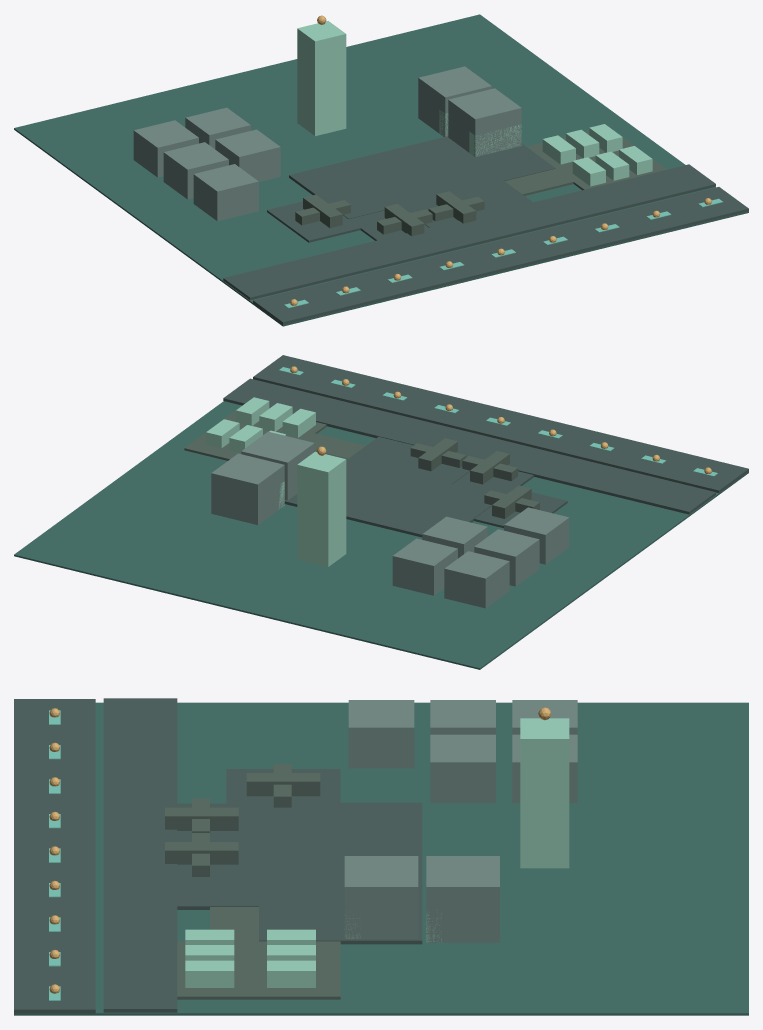
Rendered from stage_19.glb.
3 views of the same model, one above another, from view 1: azimuth 30°, elevation 25°; view 2: azimuth 150°, elevation 25°; view 3: azimuth 270°, elevation 25° (orthographic). The views are drawn at different scales.
Visible parts, largest first — view 1: geometry_0; view 2: geometry_0; view 3: geometry_0.
Boxes of the visible parts, x1,y1,x2,y2 form: geometry_0: (14, 14, 748, 326); geometry_0: (14, 355, 748, 669); geometry_0: (14, 698, 748, 1015).
Bounding box in the file's own units: 9 × 2.06 × 9.
